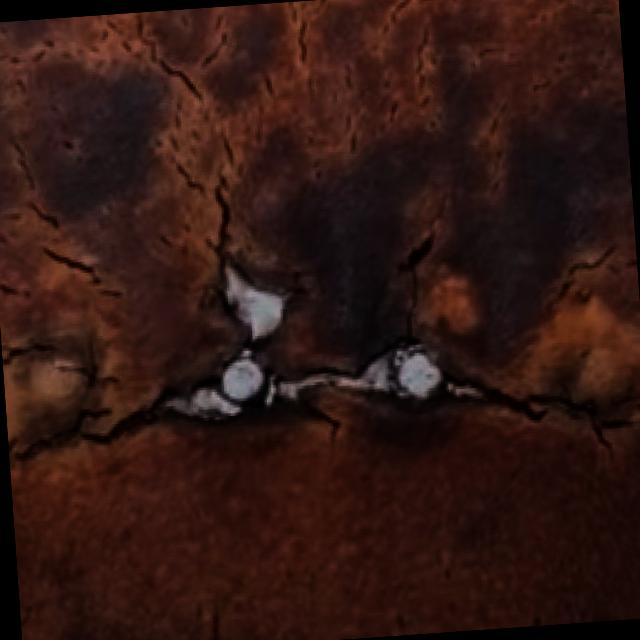crack: (202, 152, 272, 312), (38, 381, 174, 456), (374, 252, 456, 330)
